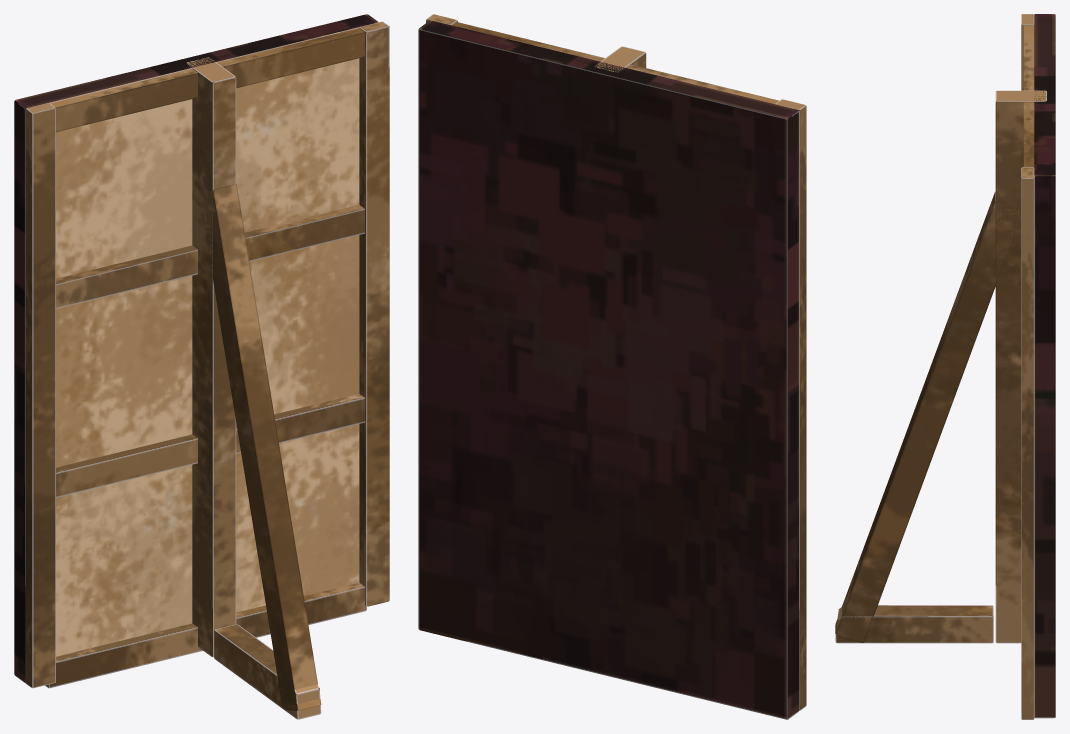
Rendered from Mur.fbx.
3 renders of one model, left to right at view 1: azimuth 30°, elevation 25°; view 2: azimuth 150°, elevation 25°; view 3: azimuth 270°, elevation 25°, orthographic. The views are drawn at different scales.
Parts seen in each view (by area): view 1: mesh, mesh_7, mesh_9, mesh_2, mesh_3, mesh_1, mesh_4, mesh_5, mesh_6, mesh_8; view 2: mesh, mesh_2, mesh_1, mesh_7; view 3: mesh, mesh_7, mesh_9, mesh_3, mesh_8, mesh_1.
Boxes of the visible parts, x1,y1,x2,y2 form: mesh: (14,14,377,683); mesh_7: (187,57,236,657); mesh_9: (199,184,321,710); mesh_2: (25,103,55,688); mesh_3: (359,21,389,606); mesh_1: (50,28,366,132); mesh_4: (56,205,364,308); mesh_5: (56,394,364,497); mesh_6: (45,582,366,688); mesh_8: (214,624,321,719); mesh: (418,20,799,719); mesh_2: (775,99,806,710); mesh_1: (452,22,779,104); mesh_7: (594,46,646,72); mesh: (1034,14,1055,718); mesh_7: (995,90,1046,643); mesh_9: (835,191,1021,642); mesh_3: (1021,167,1034,719); mesh_8: (835,605,993,643); mesh_1: (1023,24,1034,178).
Size of the model in its own units: 114 by 177 by 64.43.
1 material, 1 textured.
